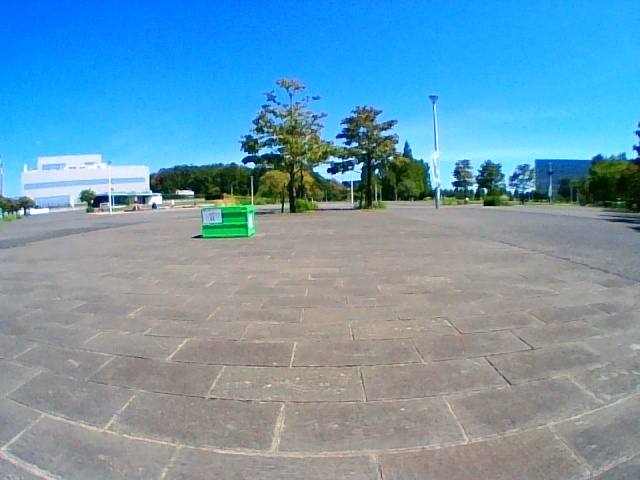green_box: (201, 205, 254, 237)
tag: (204, 209, 220, 223)
